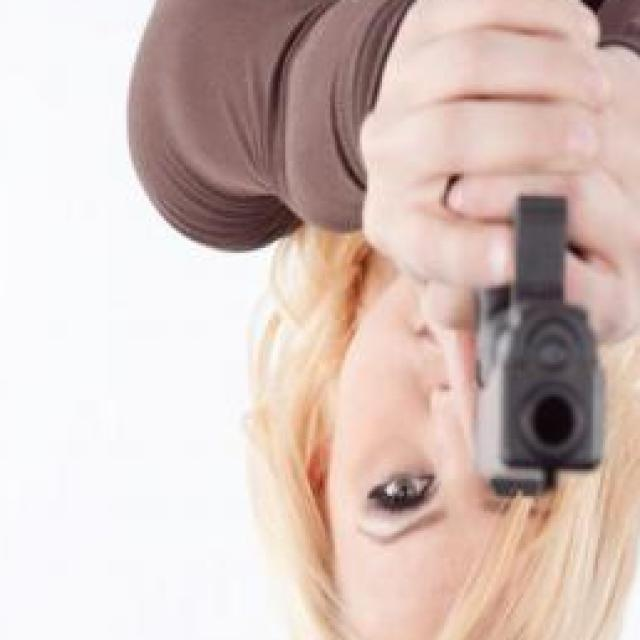pistol: (468, 189, 610, 501)
